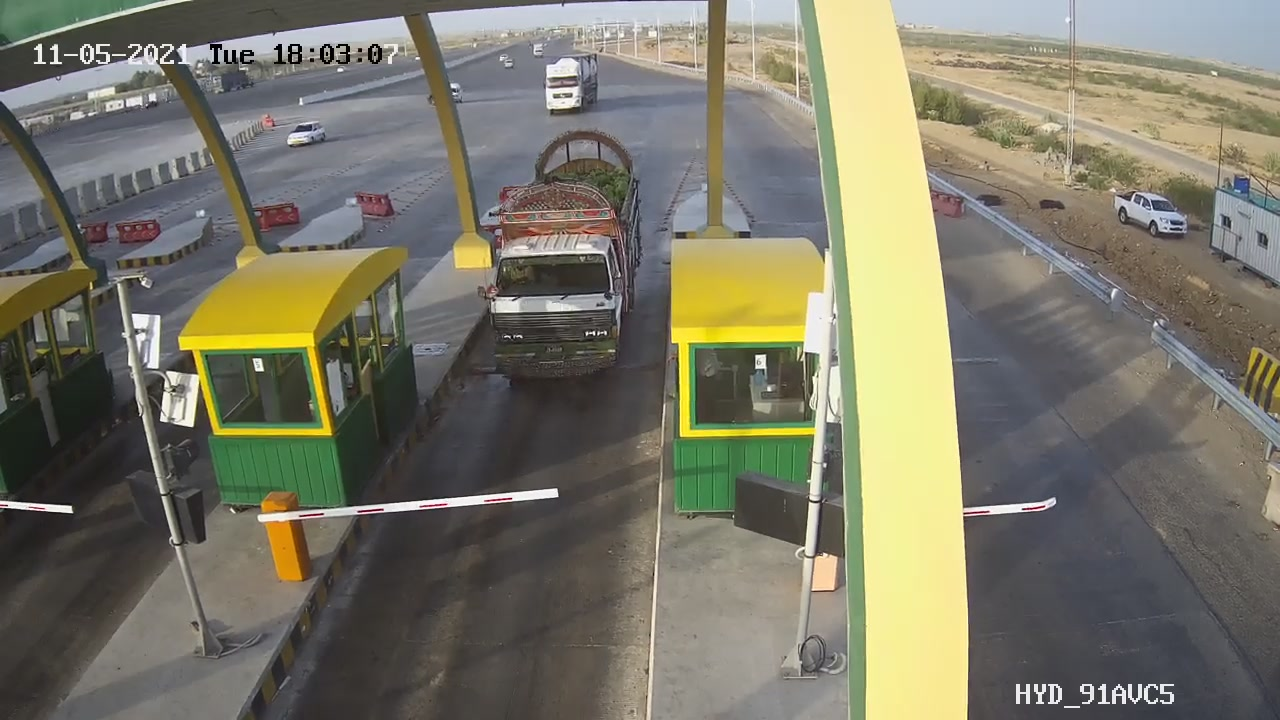F5: (465, 114, 663, 404)
